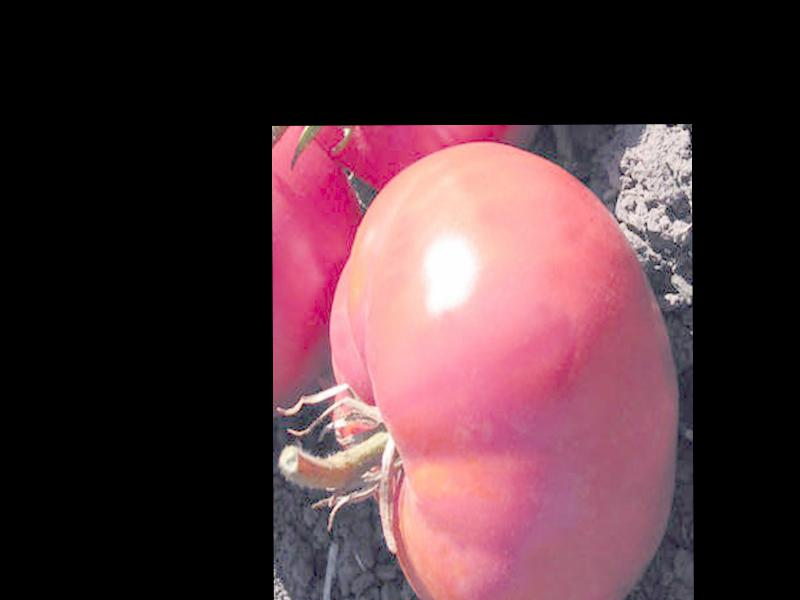Tomato: (331, 141, 678, 600)
